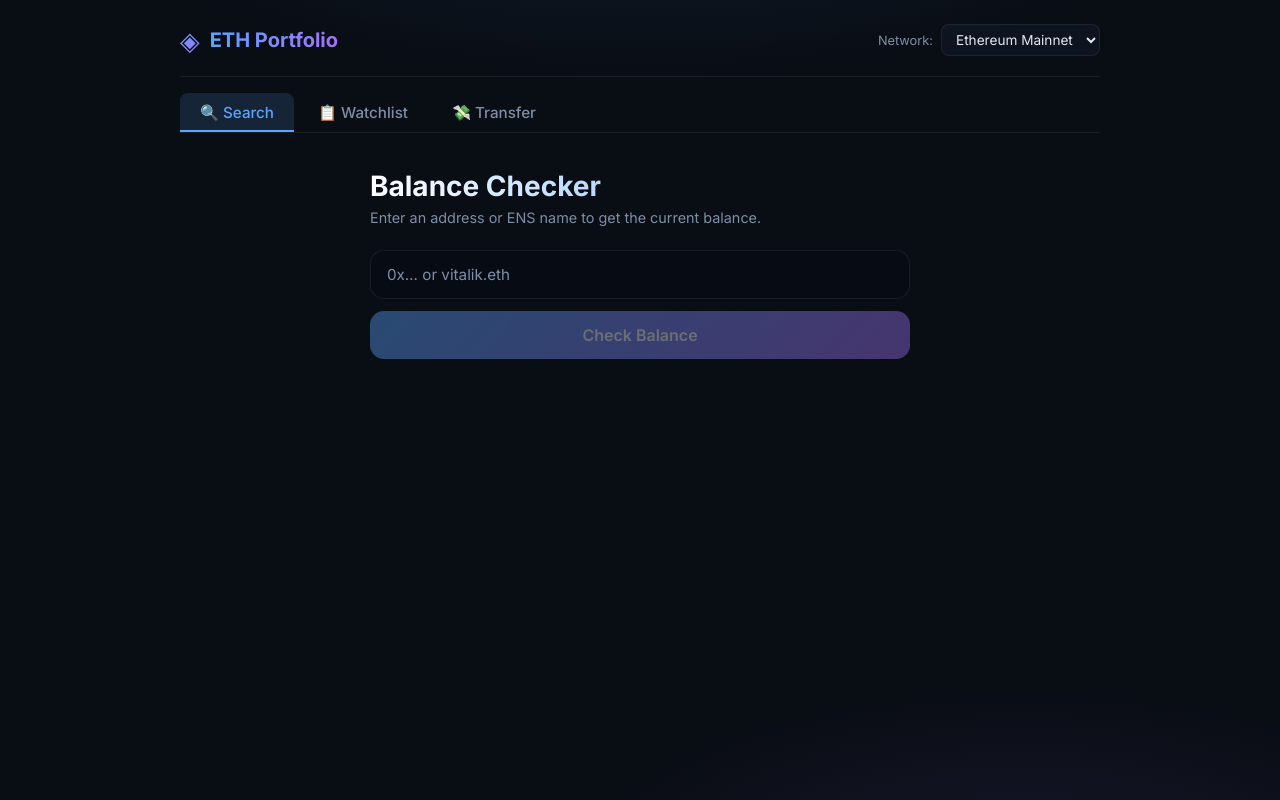
Scenario: App — Watchlist Tab › adds an address to the watchlist after fetching balance
Type "0x1234567890123456789012345678901234567890" into the field with test id "address-input".
click(640, 274); type("0x1234567890123456789012345678901234567890")  # box [370, 250, 910, 299]
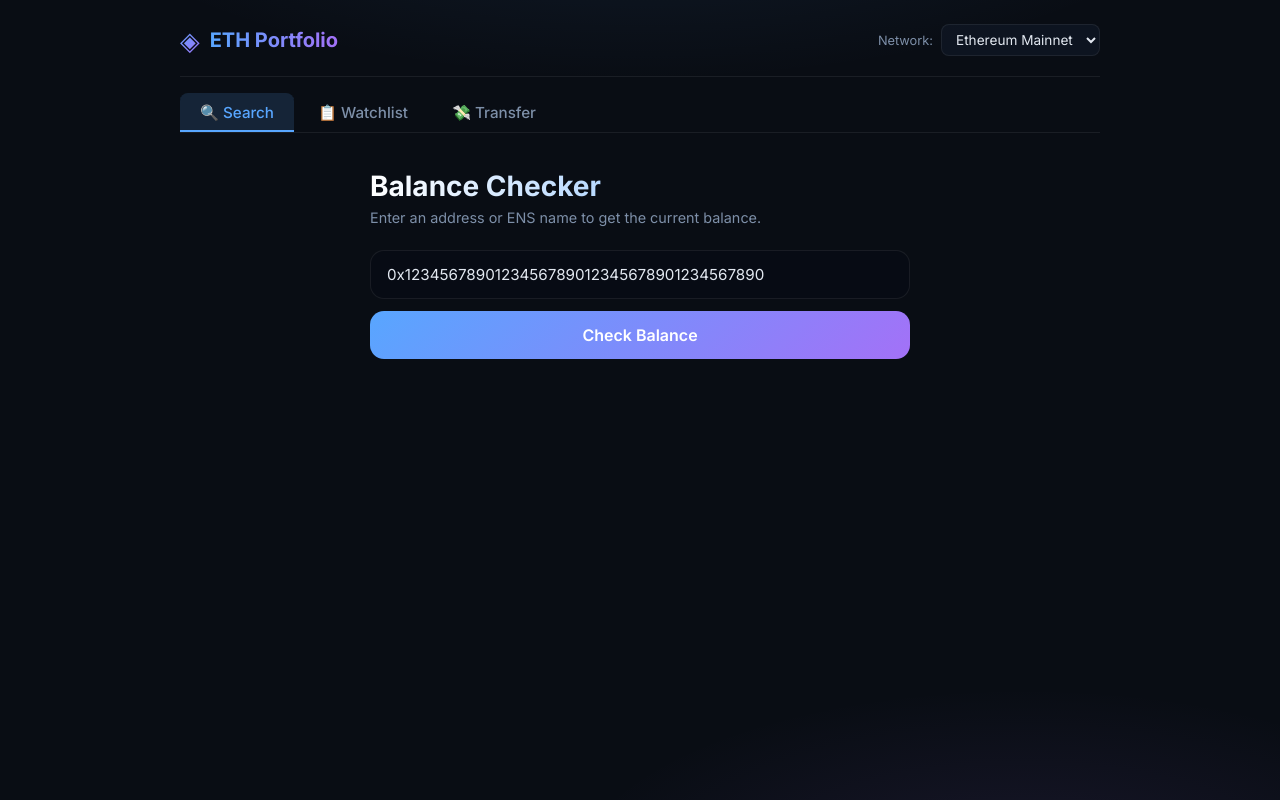
Click the button "Check Balance".
click(640, 335)  # box [370, 311, 910, 359]
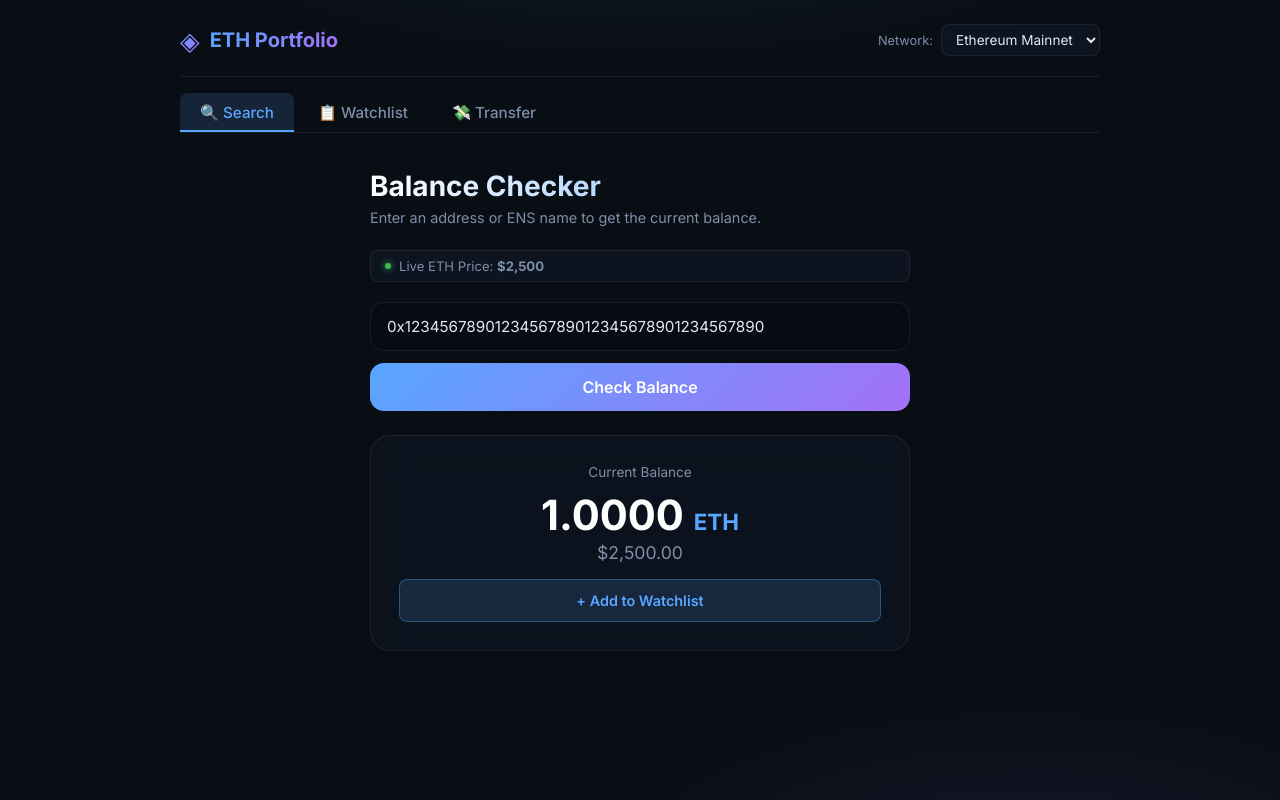
Now the element with test id "result-card" is shown, box [370, 435, 910, 651]
Click the button with test id "add-watchlist-btn".
click(640, 600)  # box [399, 579, 881, 622]
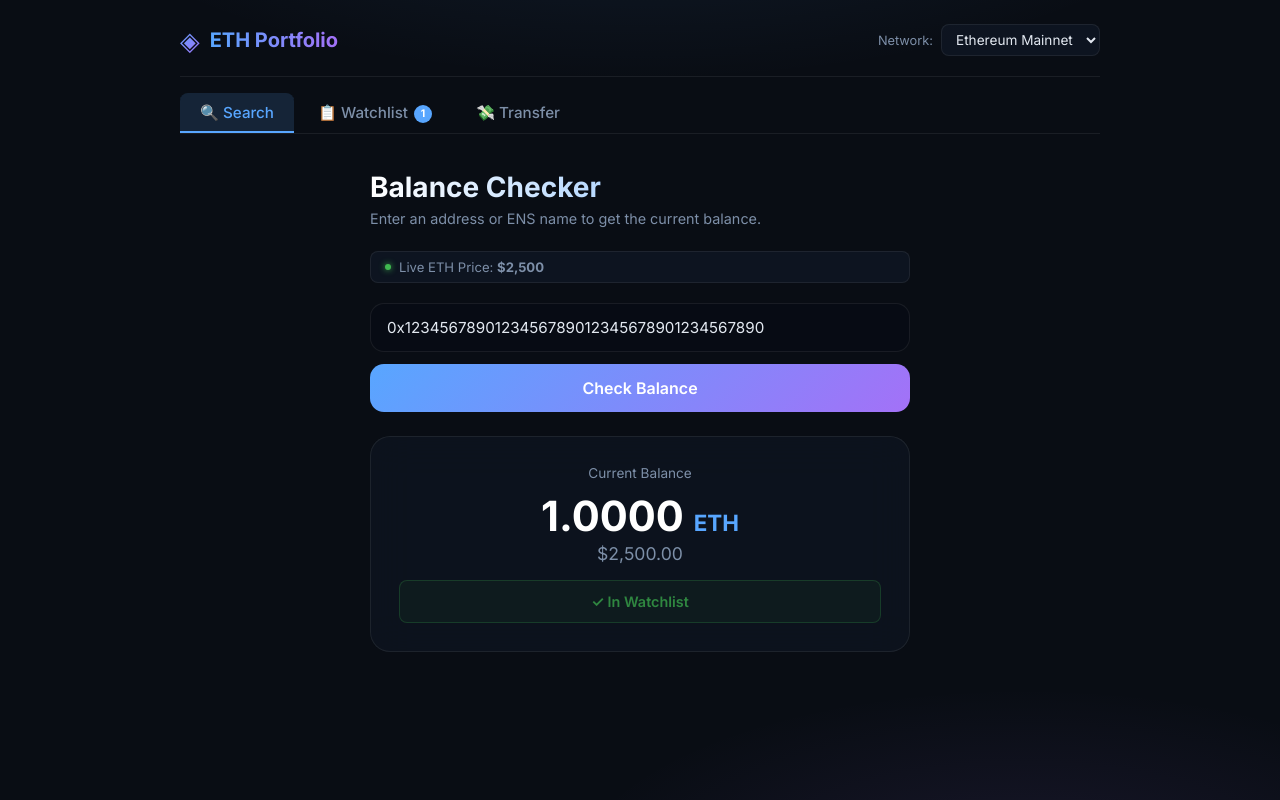
Now the button with test id "add-watchlist-btn" reads "✓ In Watchlist", box [399, 580, 881, 623]
